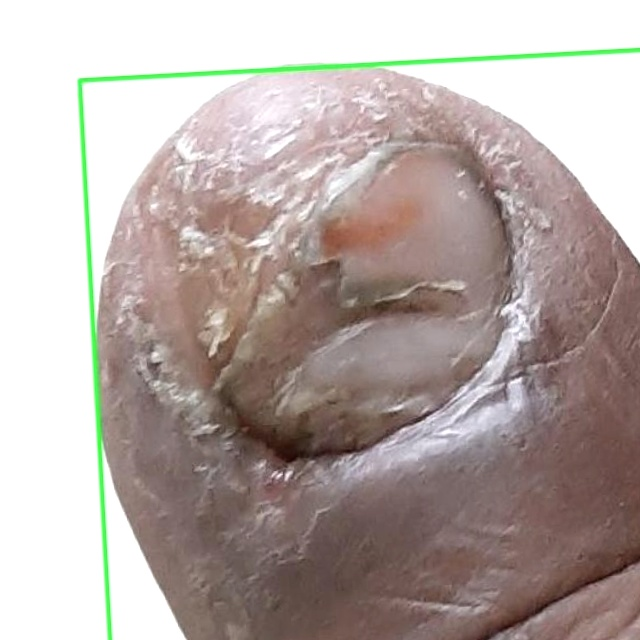Contact Dermatitis: (0, 0, 639, 639), (79, 48, 639, 639)
